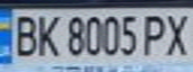0: (81, 12, 106, 57), (103, 12, 124, 57)
5: (118, 11, 142, 57)
8: (63, 12, 87, 57)
B: (6, 11, 42, 58)
K: (33, 11, 63, 57)
P: (139, 11, 172, 57)
X: (160, 10, 193, 58)
